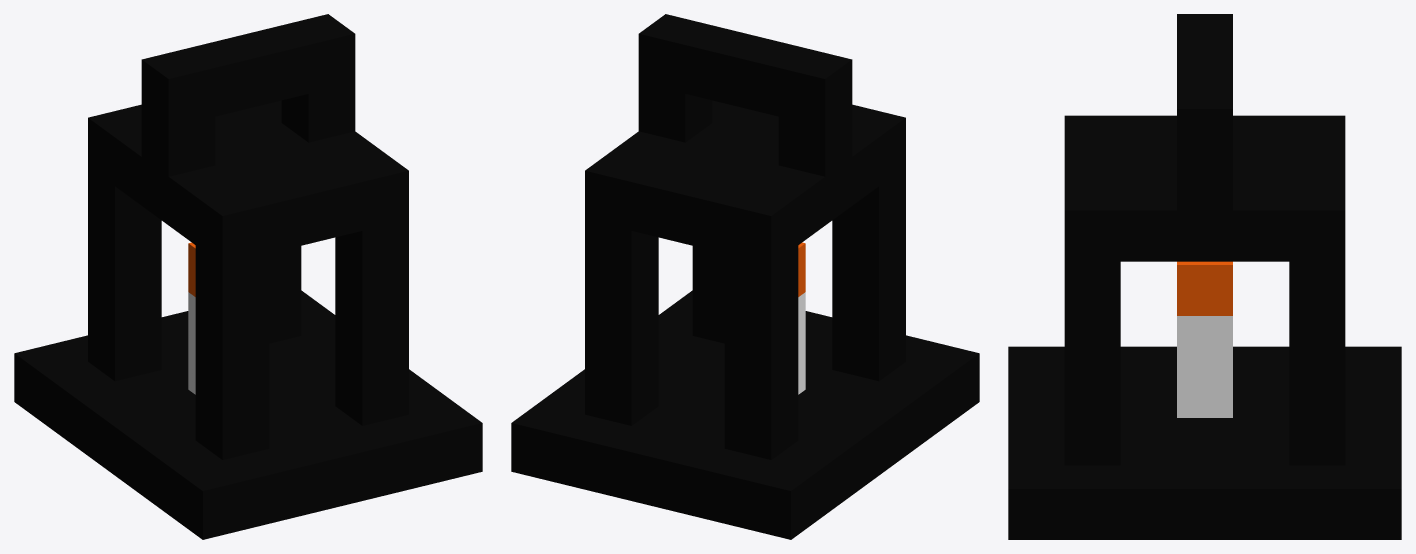
File: lamp_on.dae
3 views of the same model, side by side, from view 1: azimuth 30°, elevation 25°; view 2: azimuth 150°, elevation 25°; view 3: azimuth 270°, elevation 25° (orthographic). The views are drawn at different scales.
Visible parts, largest first — view 1: PlaneCOL; view 2: PlaneCOL; view 3: PlaneCOL.
Part boxes in pixels (x1=…): PlaneCOL: x1=14, y1=14, x2=482, y2=539; PlaneCOL: x1=511, y1=14, x2=979, y2=539; PlaneCOL: x1=1008, y1=14, x2=1401, y2=539.
Size of the model in its own units: 0.6 by 0.7 by 0.8.
